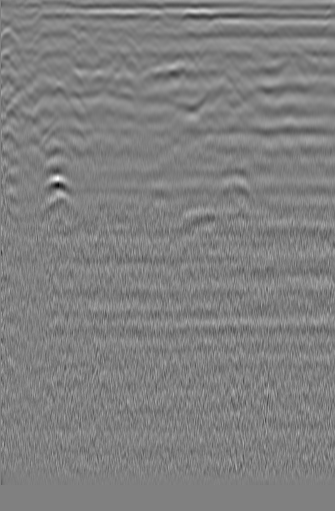가스: (37, 168, 72, 197)
상수: (298, 25, 318, 45)
오수: (1, 23, 21, 43)
우수: (147, 19, 167, 39)
